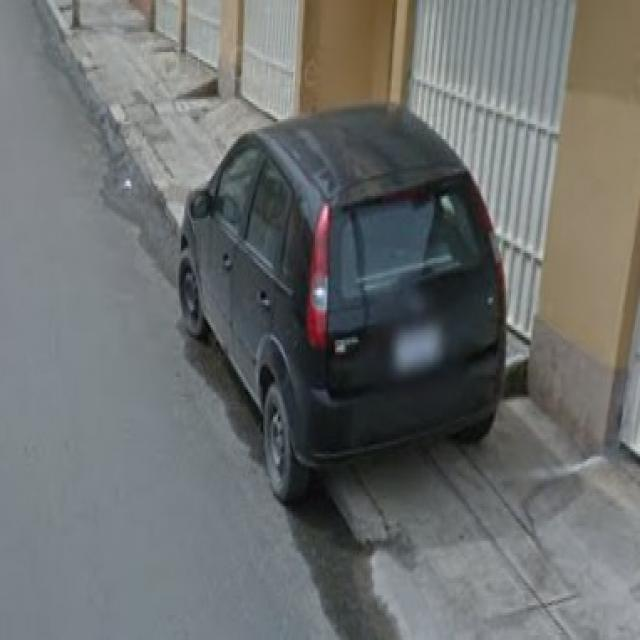Car: (173, 102, 514, 500)
